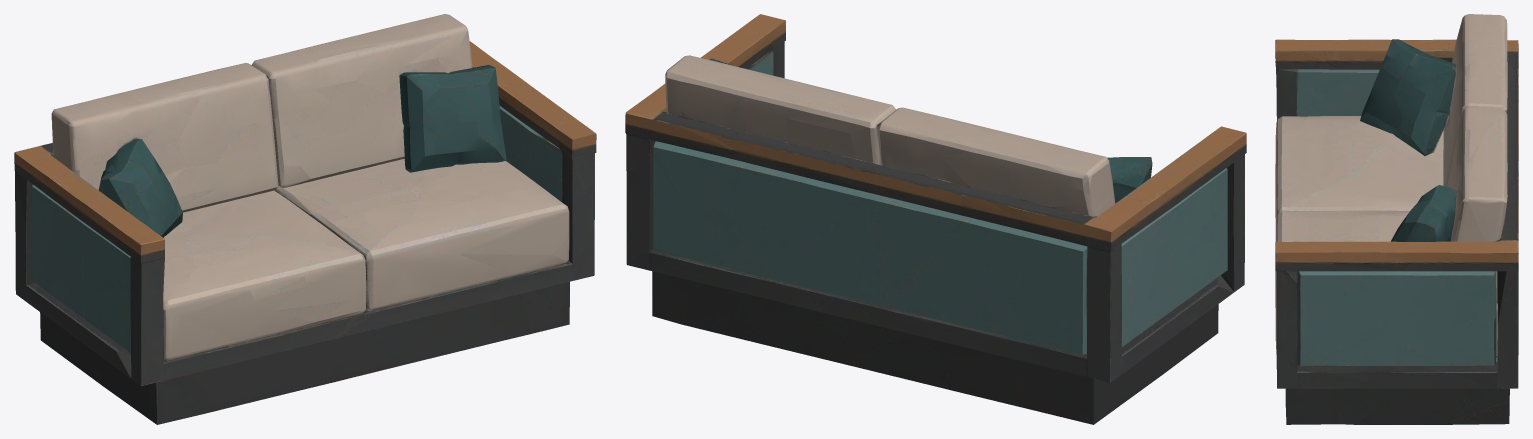
Rendered from model-lounge-sofa-6b240fcccc0a.glb.
3 views of the same model, side by side, from view 1: azimuth 30°, elevation 25°; view 2: azimuth 150°, elevation 25°; view 3: azimuth 270°, elevation 25° (orthographic). The views are drawn at different scales.
Visible parts, largest first — view 1: Mesh_0; view 2: Mesh_0; view 3: Mesh_0.
Part boxes in pixels (x1,y1,x2,y2): Mesh_0: (14, 14, 596, 424); Mesh_0: (625, 14, 1246, 424); Mesh_0: (1275, 14, 1518, 424).
Size of the model in its own units: 1.5 by 0.7325 by 0.7235.
Materials: 1 (1 with a texture image).
